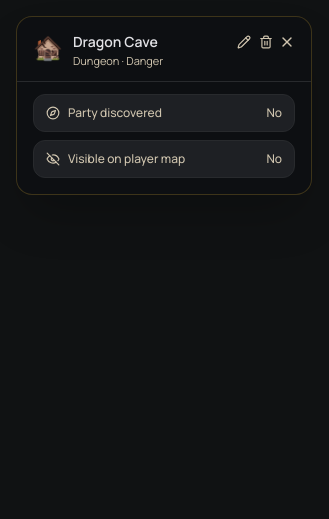
Test: MapPoIInfoCard — edit mode › clicking pencil shows the edit form
What coordinates should you click on to do the following:
click the button titled "Edit details"
I would click on:
 (244, 42)
Its box is x1=235 y1=33 x2=253 y2=51.
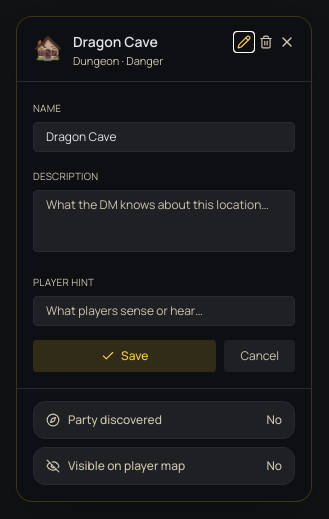
Check: the text box with placeholder "What the DM knows about this location…" is shown, box x1=33 y1=190 x2=295 y2=252
Check: the button "Save" is shown, box x1=33 y1=340 x2=216 y2=372
Check: the button "Cancel" is shown, box x1=224 y1=340 x2=295 y2=372
